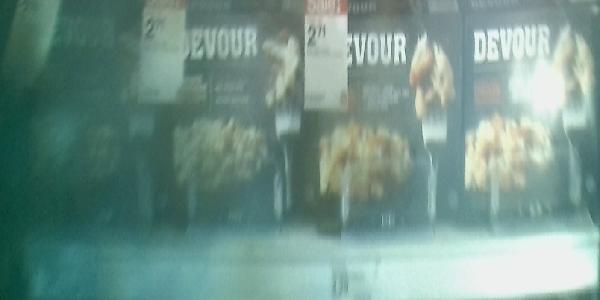pizza1: (300, 1, 463, 227), (2, 4, 155, 228), (157, 11, 299, 229), (469, 4, 600, 226)
